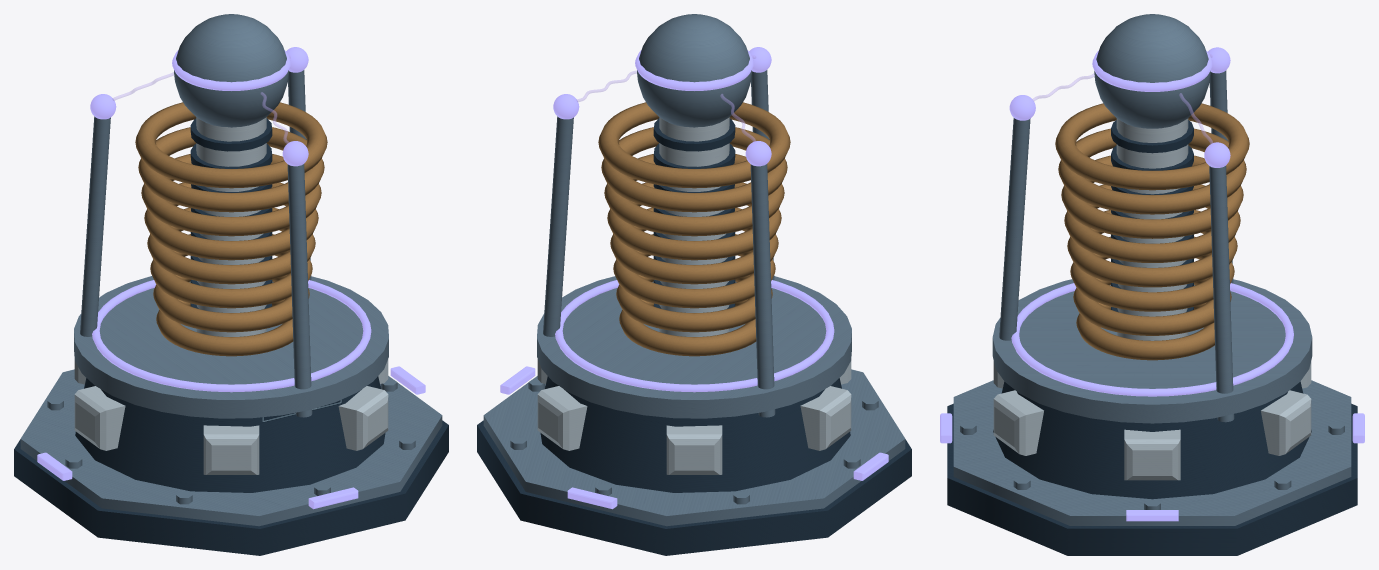
The model's file is tesla.glb.
3 views of the same model, side by side, from view 1: azimuth 30°, elevation 25°; view 2: azimuth 150°, elevation 25°; view 3: azimuth 270°, elevation 25° (orthographic).
Visible parts, largest first — view 1: Brushed titanium, Graphite composite, Copper heat exchanger, Ceramic titanium armor, Model component, Status light (×2); view 2: Brushed titanium, Graphite composite, Copper heat exchanger, Ceramic titanium armor, Model component, Status light (×2); view 3: Brushed titanium, Graphite composite, Copper heat exchanger, Ceramic titanium armor, Model component, Status light (×2).
Boxes of the visible parts, x1,y1,x2,y2 form: Brushed titanium: (20, 70, 442, 526); Graphite composite: (14, 118, 448, 555); Copper heat exchanger: (135, 102, 327, 356); Ceramic titanium armor: (74, 117, 388, 474); Model component: (174, 14, 288, 127); Status light (×2): (37, 47, 425, 509); Brushed titanium: (483, 70, 905, 526); Graphite composite: (477, 118, 911, 555); Copper heat exchanger: (598, 102, 790, 356); Ceramic titanium armor: (537, 117, 851, 474); Model component: (637, 14, 751, 127); Status light (×2): (500, 47, 888, 509); Brushed titanium: (953, 70, 1351, 525); Graphite composite: (947, 120, 1357, 555); Copper heat exchanger: (1055, 103, 1249, 360); Ceramic titanium armor: (993, 118, 1311, 480); Model component: (1094, 14, 1210, 128); Status light (×2): (940, 47, 1364, 521).
Bounding box in the file's own units: 2.26 × 2.64 × 2.26.
7 materials, 5 textured.
